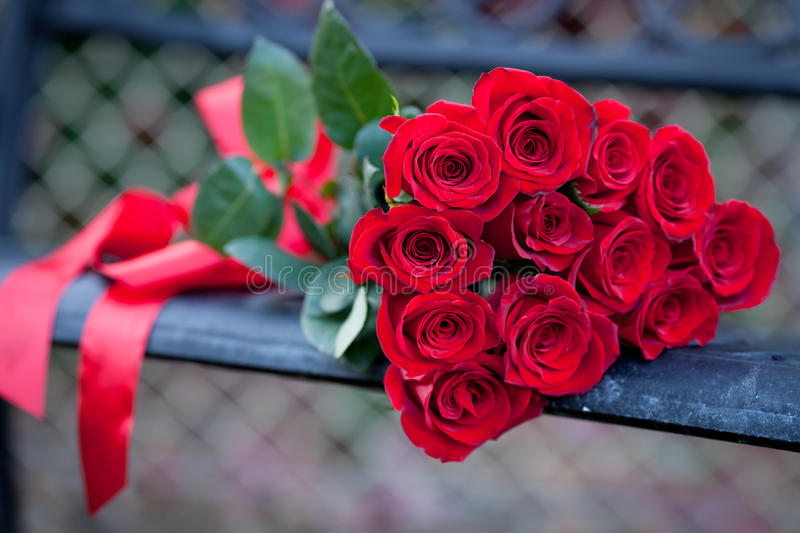RedRose: (374, 90, 518, 226), (493, 259, 619, 412), (465, 50, 602, 190), (370, 273, 504, 375), (684, 188, 790, 310), (640, 115, 733, 254), (575, 86, 655, 220), (510, 179, 601, 270)
